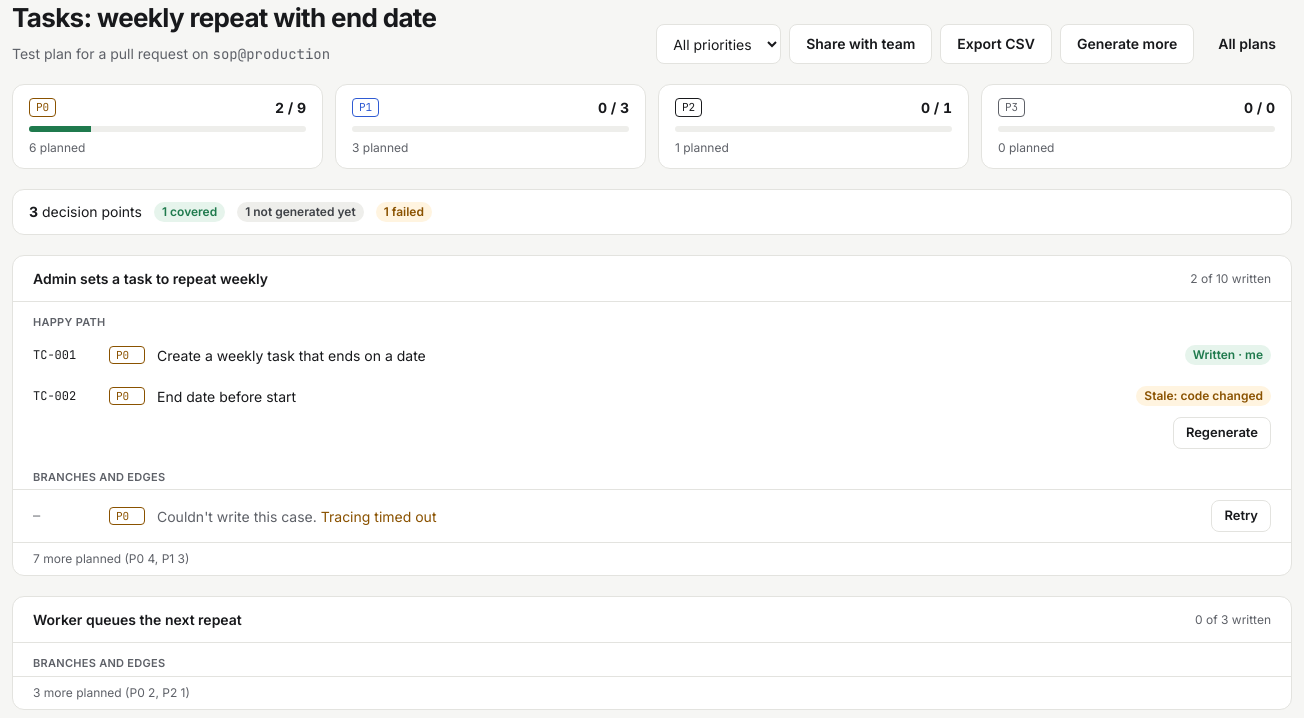
stale_regenerate_calls_retry
The image size is (1304, 718).
Click the button "Regenerate". click: (1222, 432)
box: [1173, 416, 1271, 448]
(page scrolled)
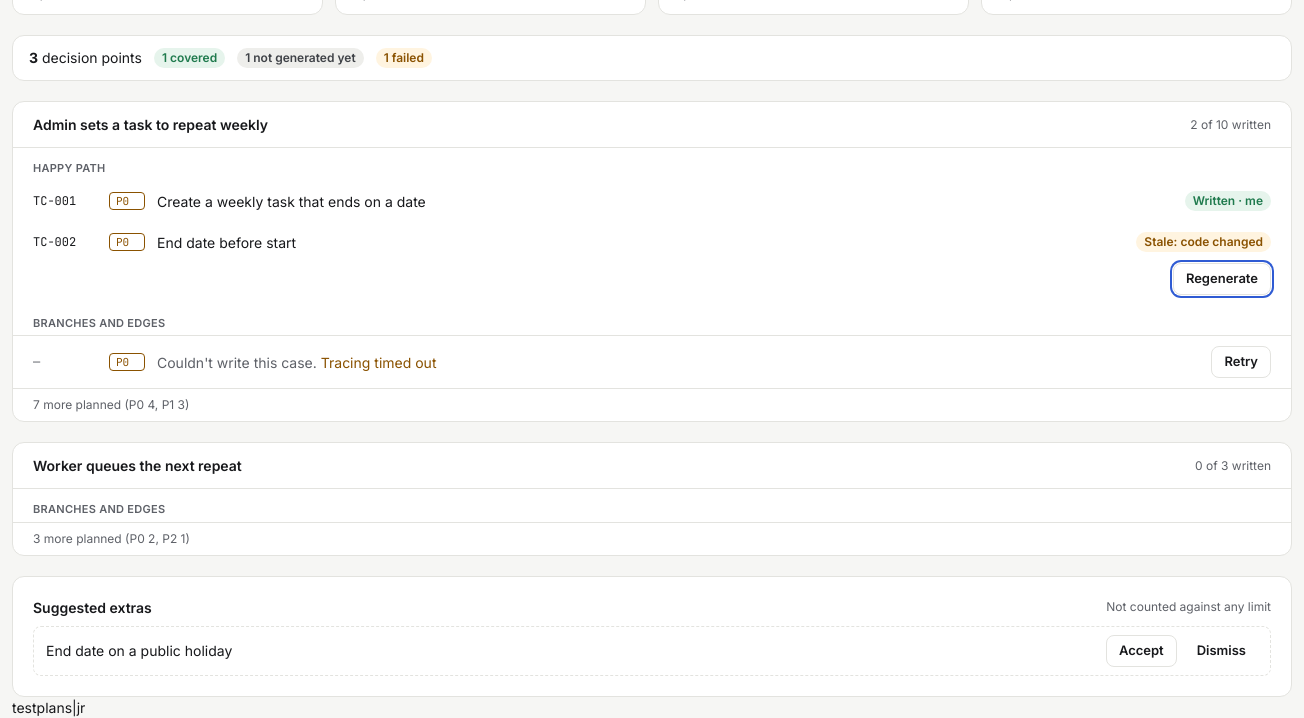
Result: the text with test id "probe" reads "testplans|jr" at [12, 698, 72, 716]
